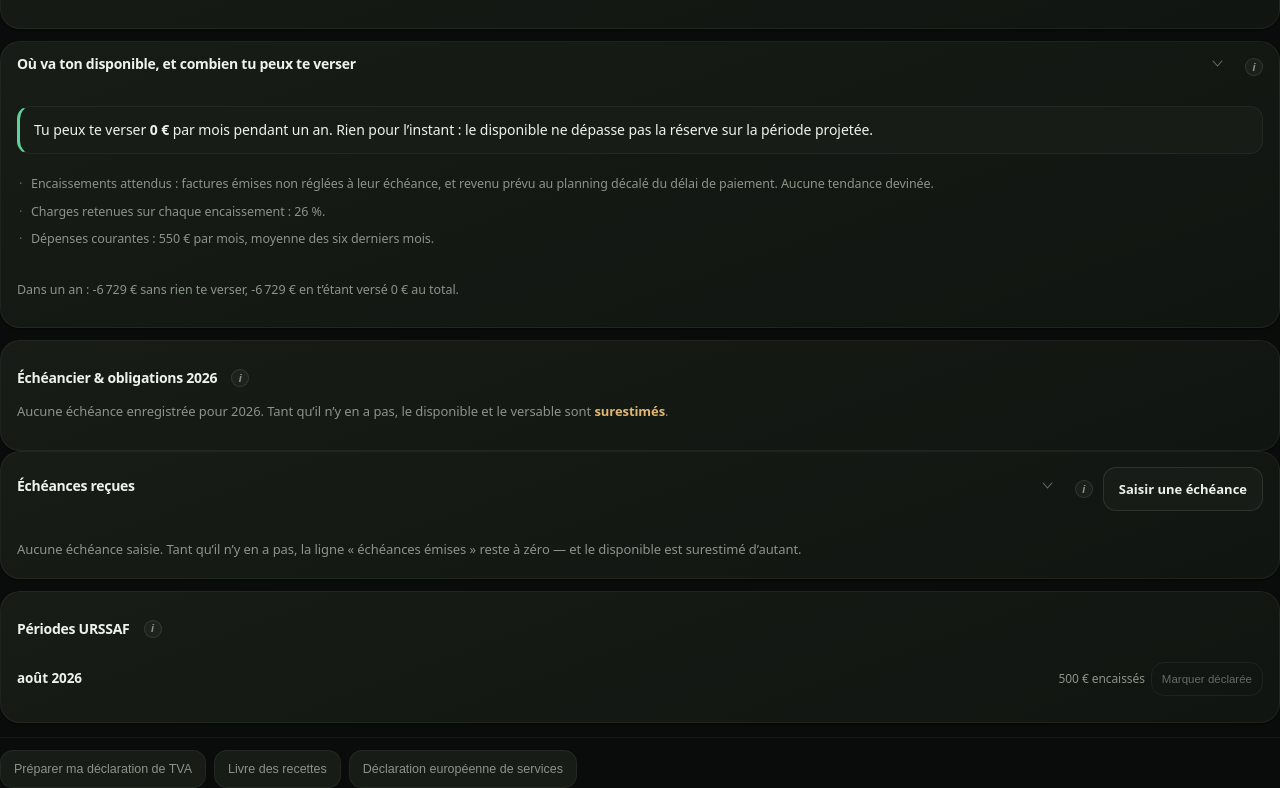
it: dossier de déclaration de TVA › annonce un crédit plutôt qu’un montant négatif à payer
(page scrolled)
Click the button "Préparer ma déclaration de TVA" at (103, 769), box [0,750,206,787]
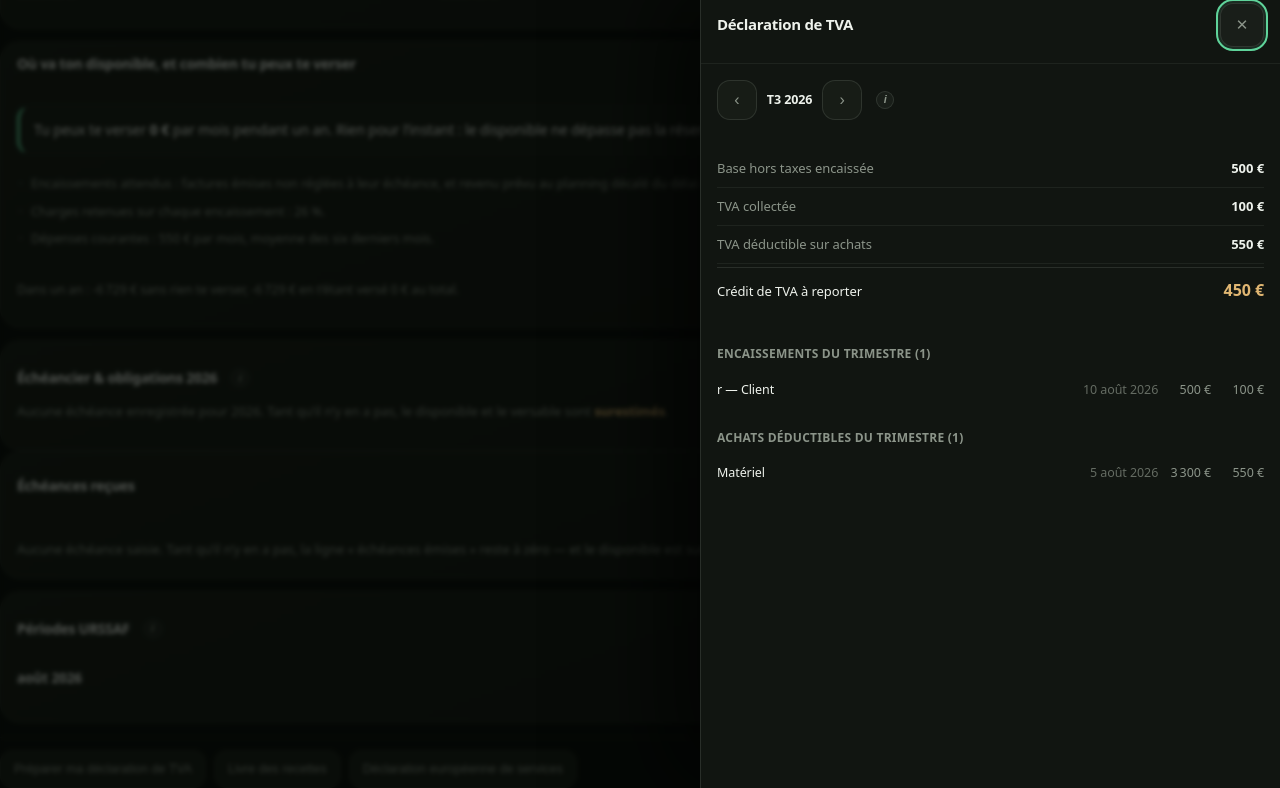
Check: the text "Crédit de TVA à reporter" is shown, box [717,282,862,300]
